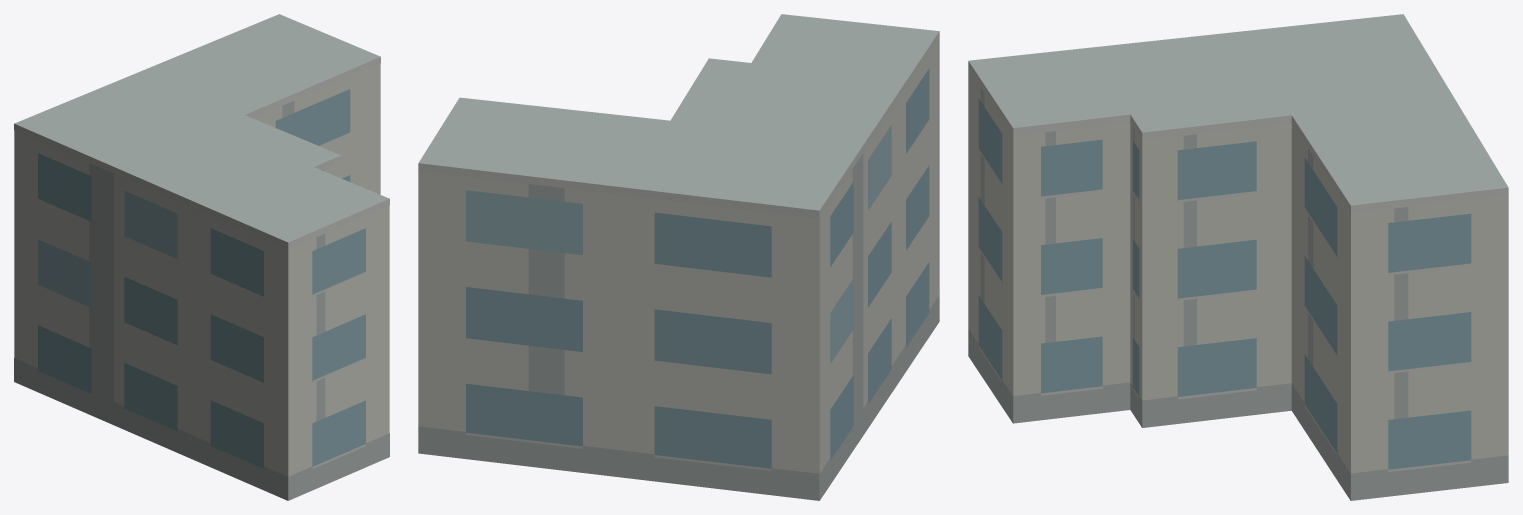
Rendered from residential-66213d34-a2e4-40f1-86df-bf82277c8dee.glb.
The picture shows the model from 3 angles, left to right: view 1: azimuth 30°, elevation 25°; view 2: azimuth 150°, elevation 25°; view 3: azimuth 270°, elevation 25°; orthographic projection. The views are drawn at different scales.
Parts seen in each view (by area): view 1: residential-66213d34-a2e4-40f1-86df-bf82277c8dee.tmp; view 2: residential-66213d34-a2e4-40f1-86df-bf82277c8dee.tmp; view 3: residential-66213d34-a2e4-40f1-86df-bf82277c8dee.tmp.
Part boxes in pixels (x1,y1,x2,y2): residential-66213d34-a2e4-40f1-86df-bf82277c8dee.tmp: (14, 14, 389, 500); residential-66213d34-a2e4-40f1-86df-bf82277c8dee.tmp: (418, 14, 939, 500); residential-66213d34-a2e4-40f1-86df-bf82277c8dee.tmp: (968, 14, 1508, 500).
Size of the model in its own units: 12.74 by 9.15 by 15.18.
